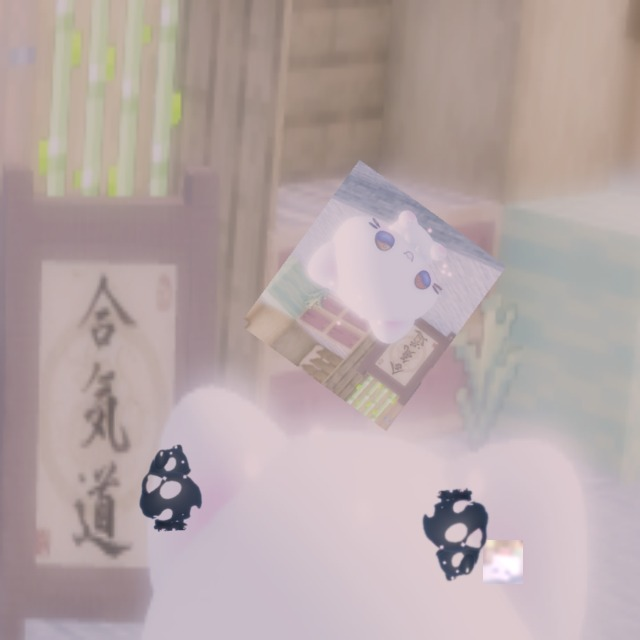urso_branco: (239, 159, 507, 432), (483, 540, 523, 584)
urso_preto: (413, 486, 498, 590), (133, 437, 210, 533)
